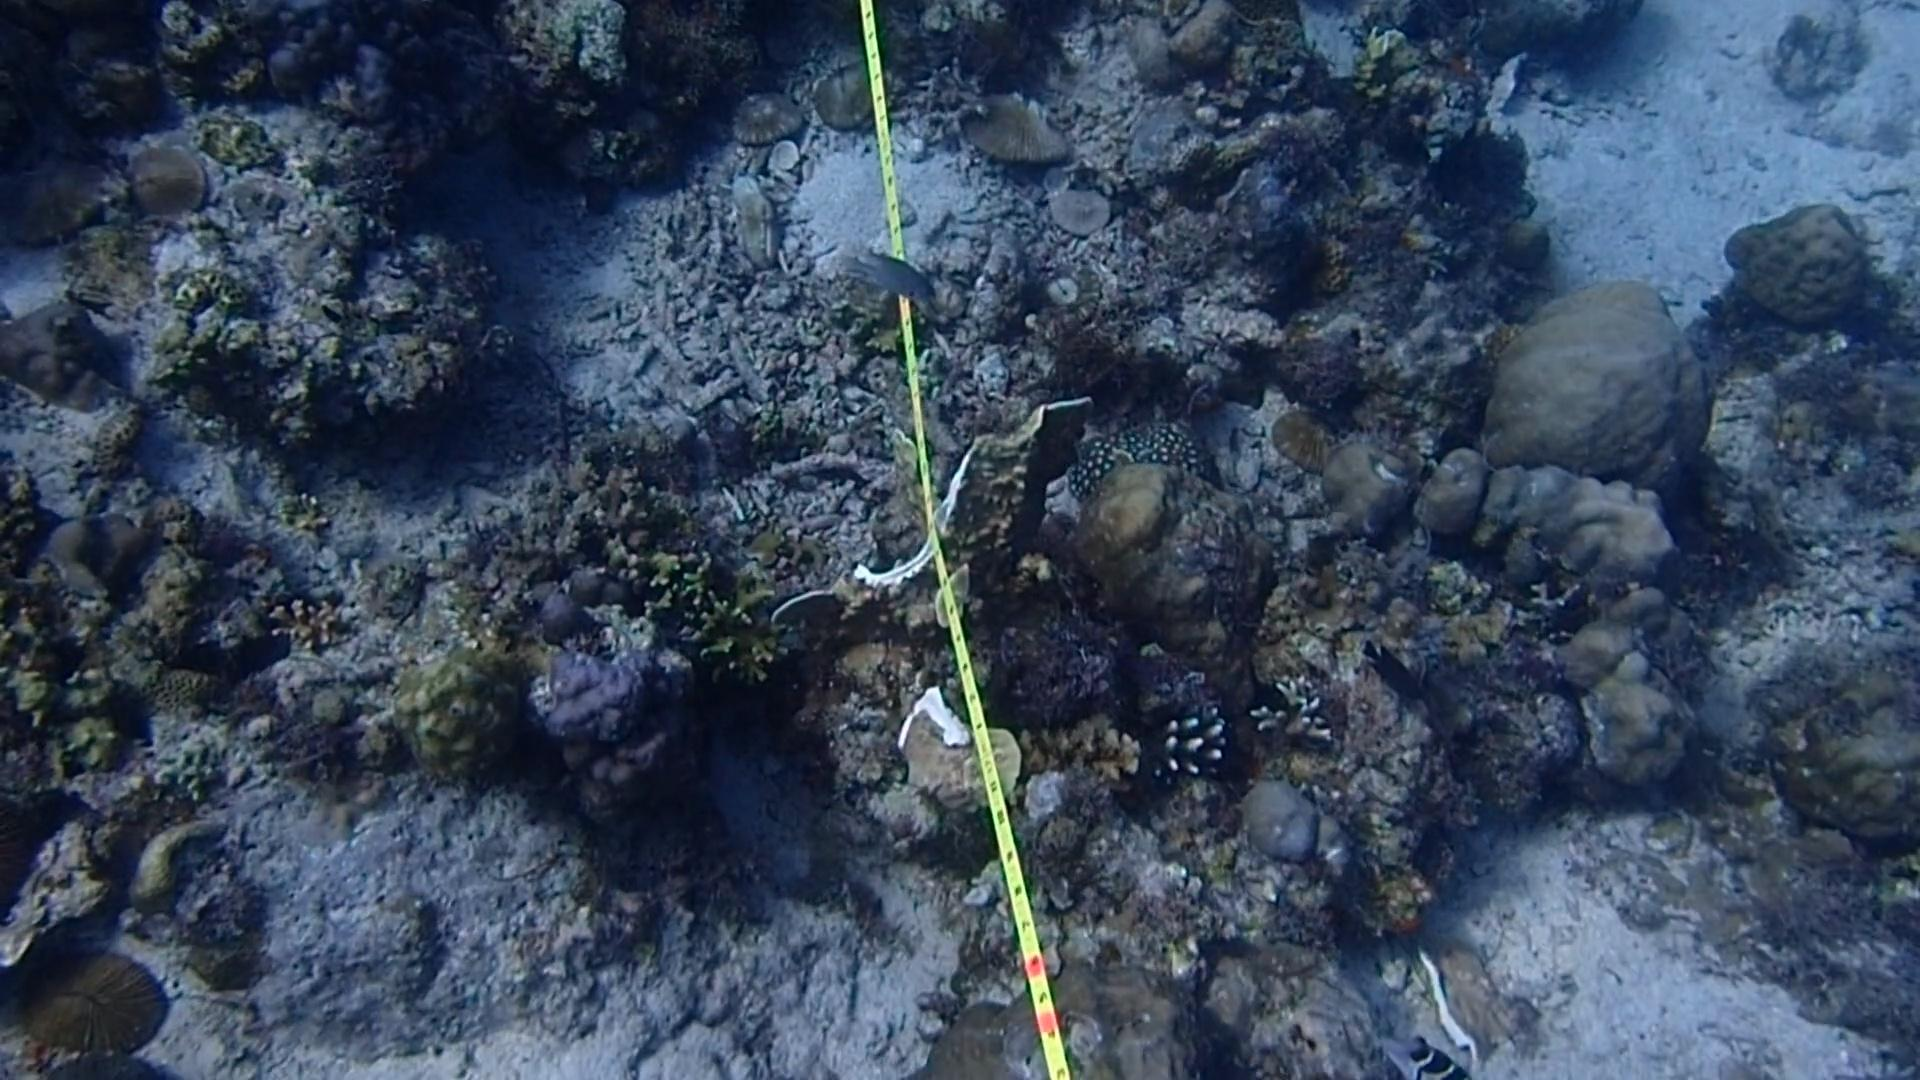Striped Fish: (1367, 1015, 1470, 1080)
